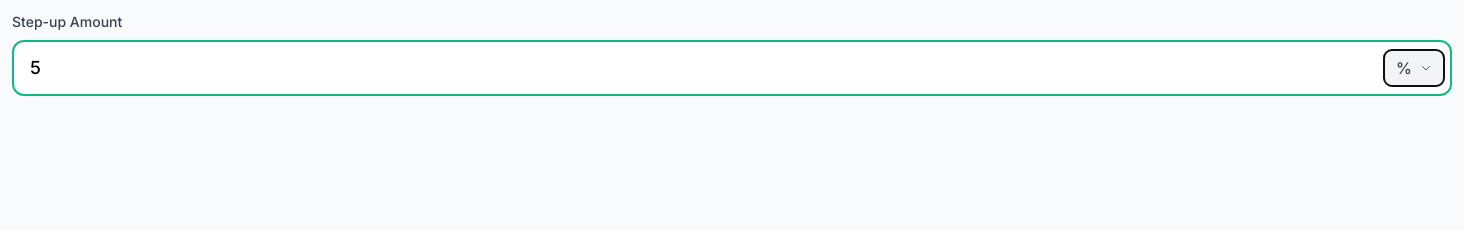
Test: StepUpInput › ♿ Accessibility › should handle keyboard navigation
The image size is (1464, 231).
Press Enter
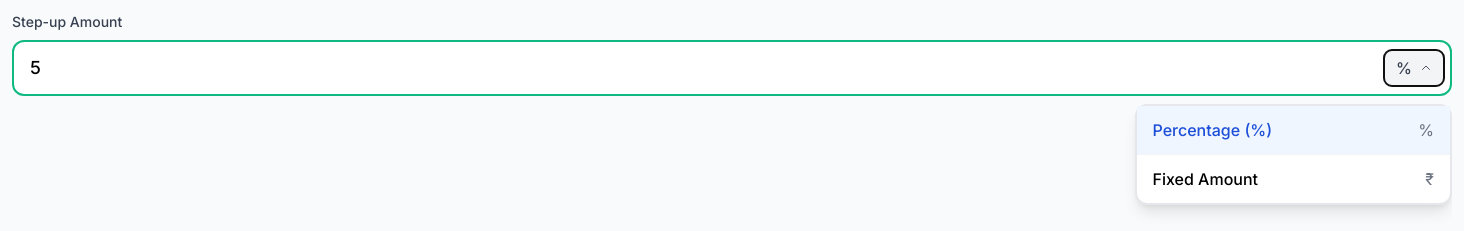
Expected: the text "Fixed Amount" is shown, [1152, 167, 1258, 191]
// Click the button again to close dropdown
Click the button "%" at (1414, 68), box [1384, 50, 1444, 86]
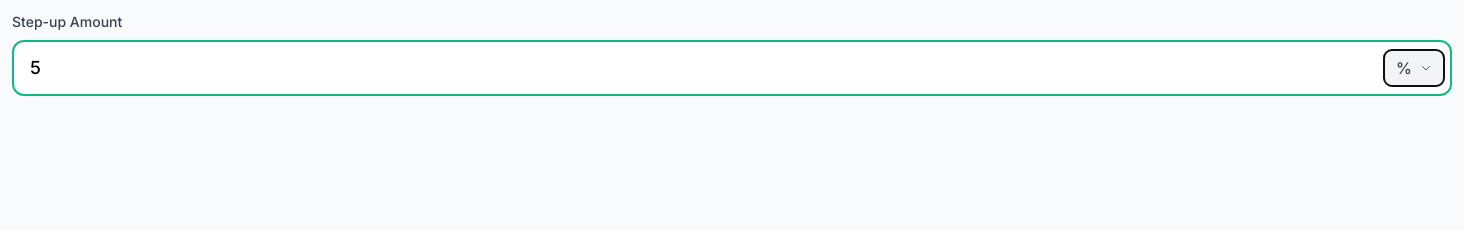
Expected: the button "Fixed Amount" is gone
